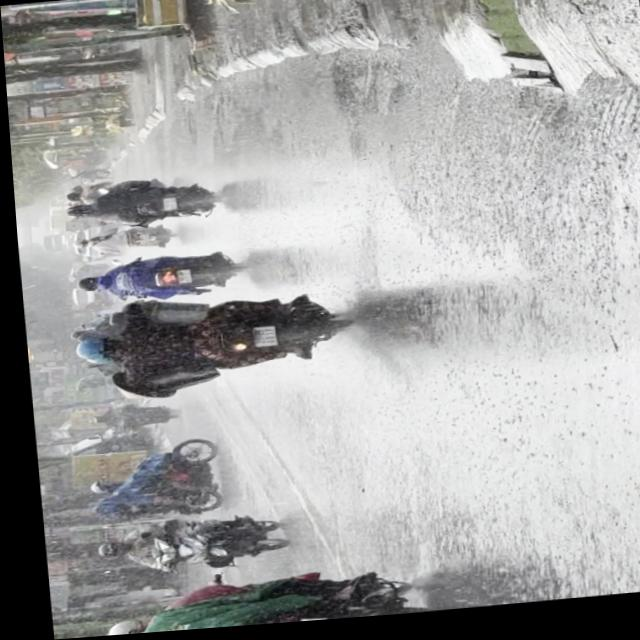helmet: (65, 337, 111, 367), (92, 620, 135, 637), (86, 543, 117, 560), (69, 278, 96, 294)
licenseplate: (59, 289, 353, 399), (76, 565, 429, 638), (82, 513, 283, 581), (67, 251, 243, 309)
nohelmet: (246, 331, 269, 351), (170, 273, 185, 286)
